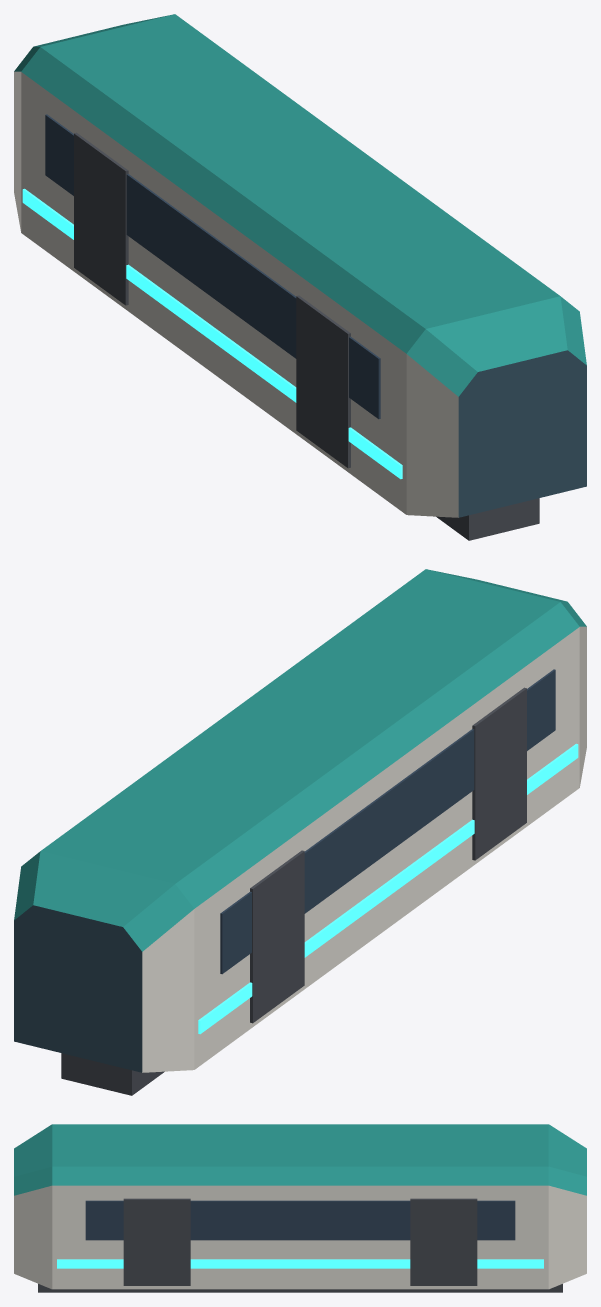
File: train_car.glb
3 renders of one model, top to bottom at view 1: azimuth 30°, elevation 25°; view 2: azimuth 150°, elevation 25°; view 3: azimuth 270°, elevation 25°, orthographic. The views are drawn at different scales.
Parts seen in each view (by area): view 1: train_car; view 2: train_car; view 3: train_car.
Part boxes in pixels (left/top/right/bottom): train_car: left=14, top=14, right=586, bottom=540; train_car: left=14, top=569, right=586, bottom=1095; train_car: left=14, top=1124, right=586, bottom=1292.
Size of the model in its own units: 2.79 by 3.15 by 12.
